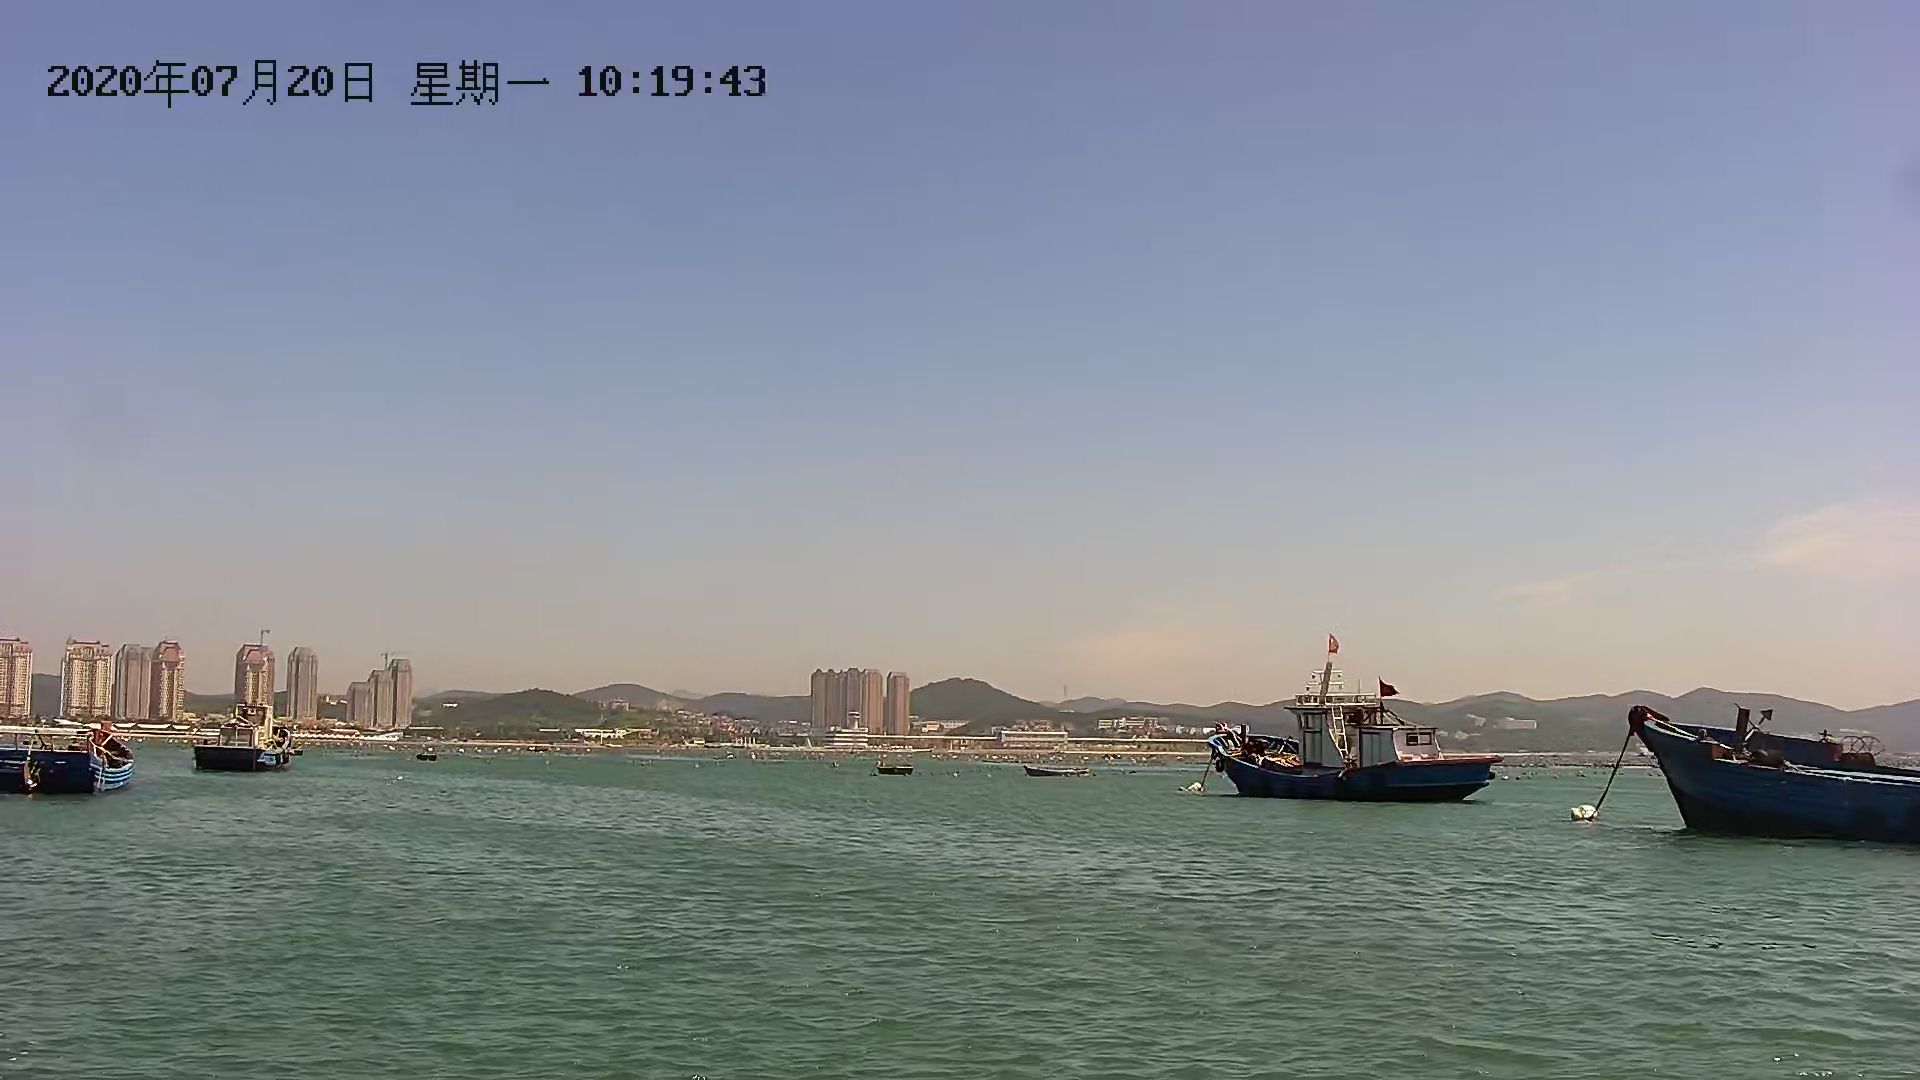boat: (1, 723, 142, 804), (1014, 760, 1091, 781), (872, 760, 910, 777)
rubbish: (1563, 799, 1605, 831)
ship: (1619, 691, 1920, 843), (1195, 688, 1495, 807), (189, 702, 301, 782)
